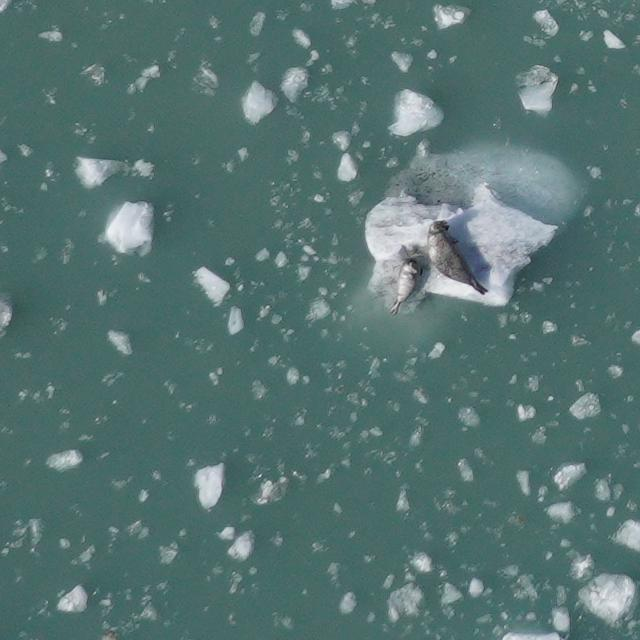seal: (411, 215, 492, 312), (379, 254, 428, 320)
